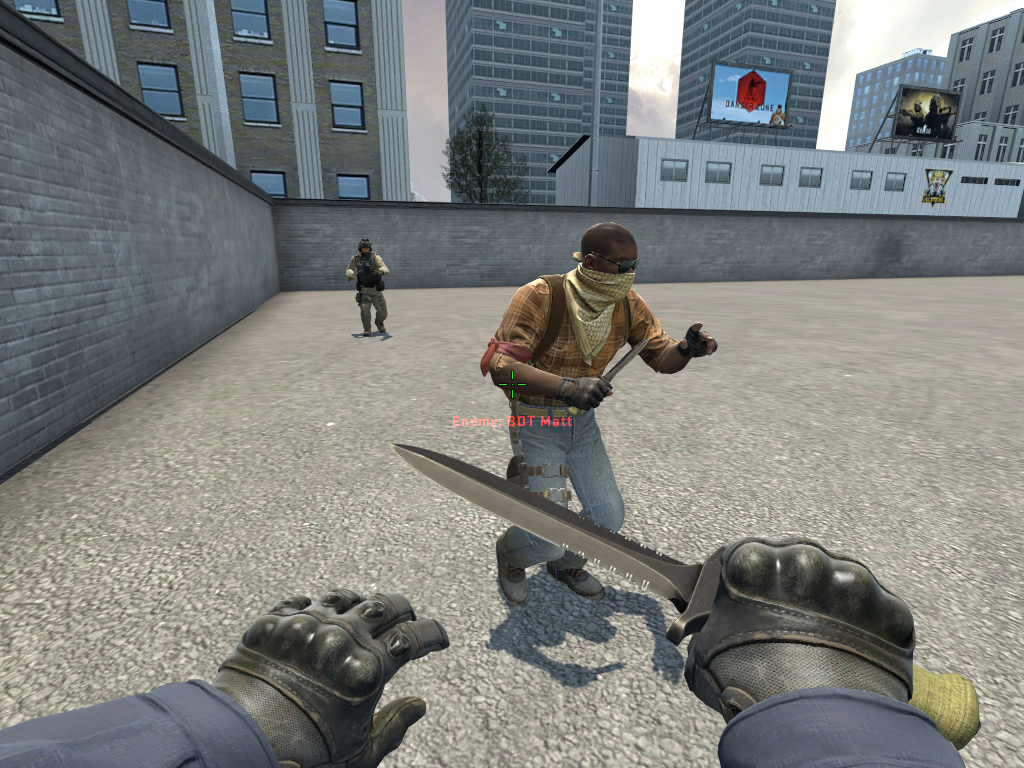ct head: (355, 234, 377, 260)
tr head: (568, 217, 642, 306)
